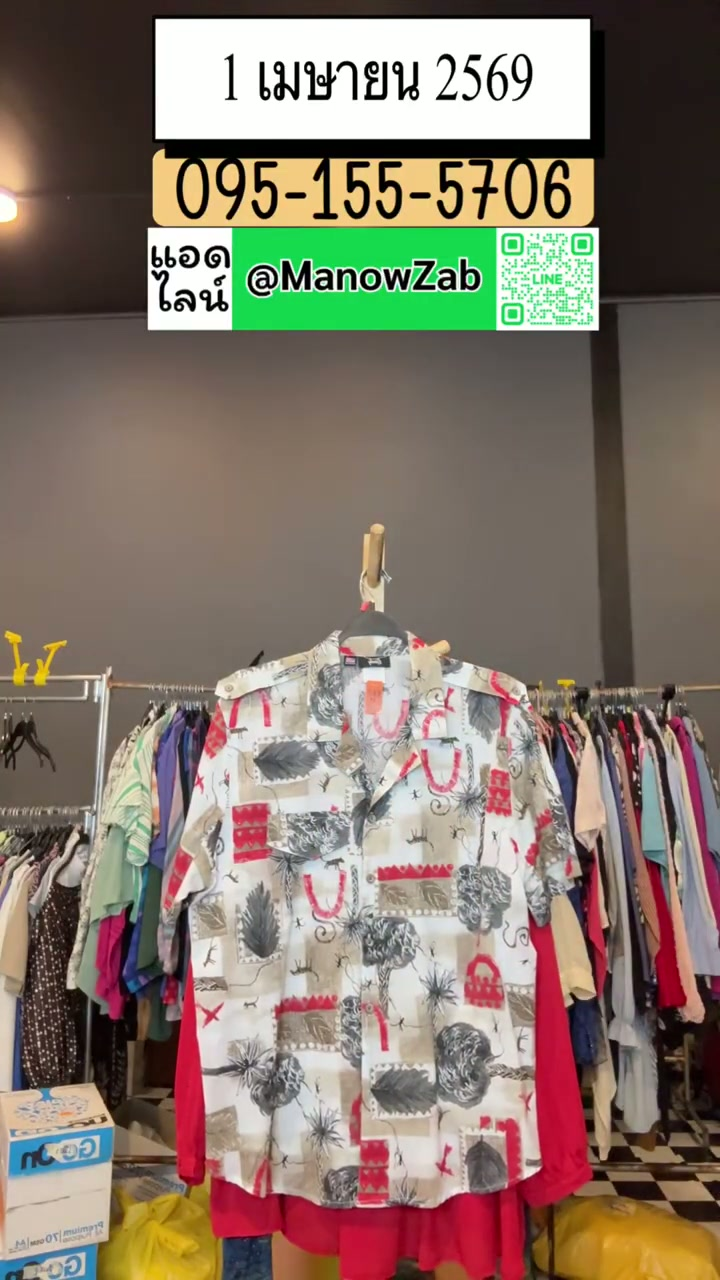display_shirt: (163, 615, 578, 1216)
